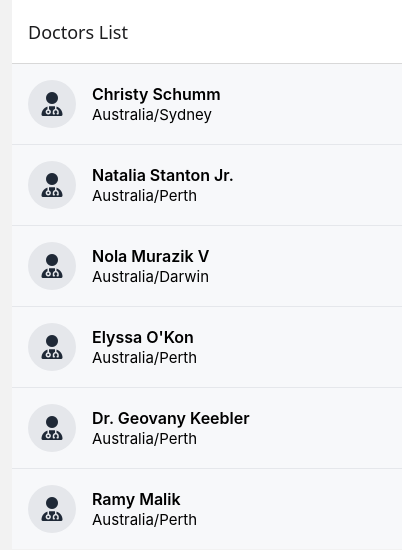
Scenario: DoctorsListScreen › navigates to doctor detail when a doctor is pressed
Click the text "Christy Schumm" at {"x": 156, "y": 94}, box [92,83,221,105]
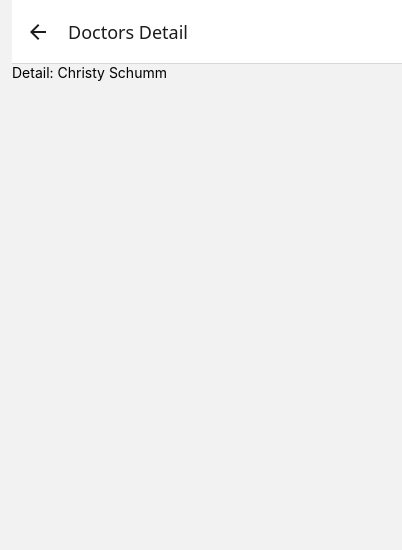
Now the text "Detail: Christy Schumm" is shown, box [12,64,167,81]
